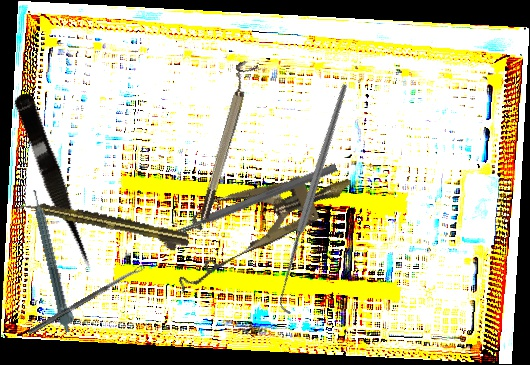Fixation Ring: (190, 58, 259, 222)
Handpiece: (17, 196, 191, 248), (29, 187, 79, 334)
Hook Surgical: (196, 81, 435, 316)
Micro Scissor: (9, 91, 98, 274)
Pusher: (159, 161, 339, 243)
Speculum: (153, 147, 366, 294)
Surgical Spoon: (27, 264, 146, 336)
